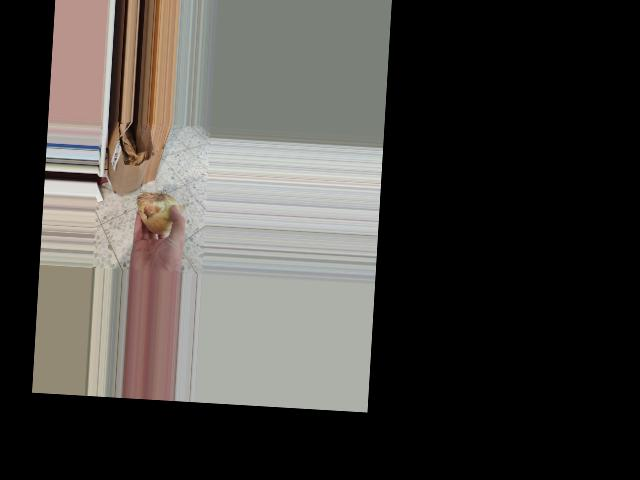onion: (133, 186, 186, 238)
